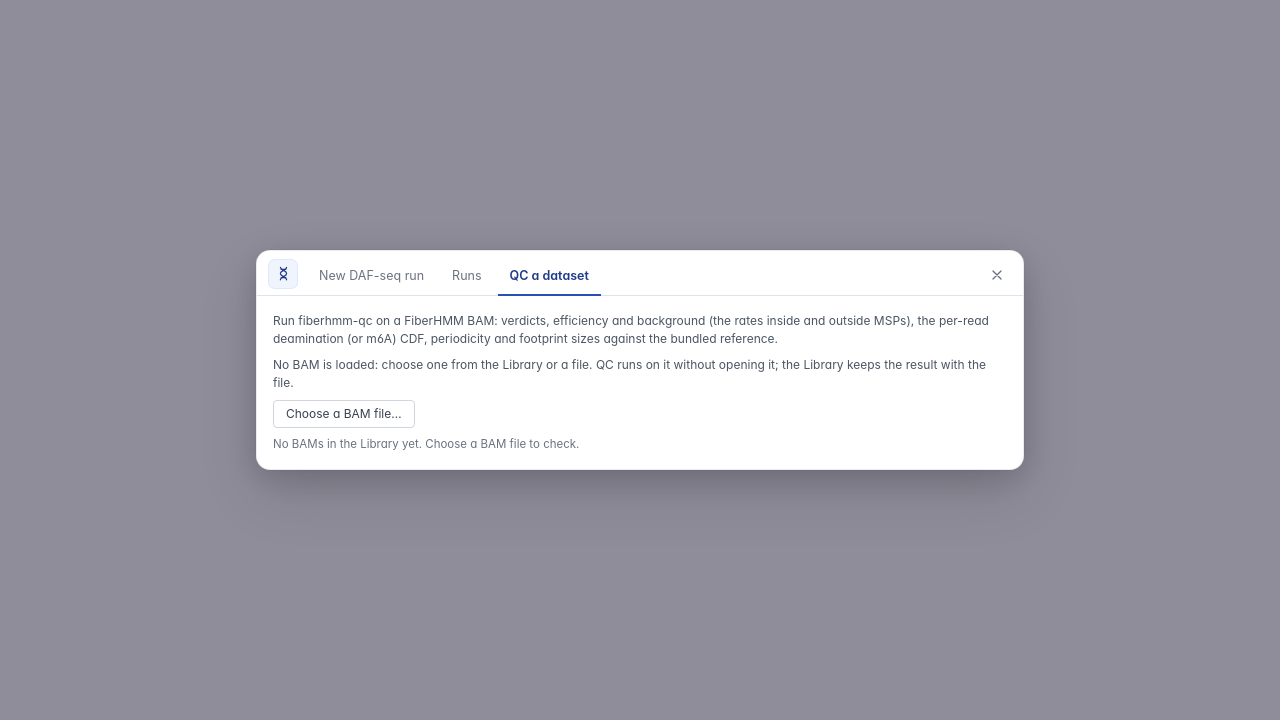
QC a dataset with no BAM loaded › QCs a chosen file through the Library, and shows errors inline
The image size is (1280, 720).
Click the button "Choose a BAM file…".
click(344, 414)  # box [273,400,415,428]
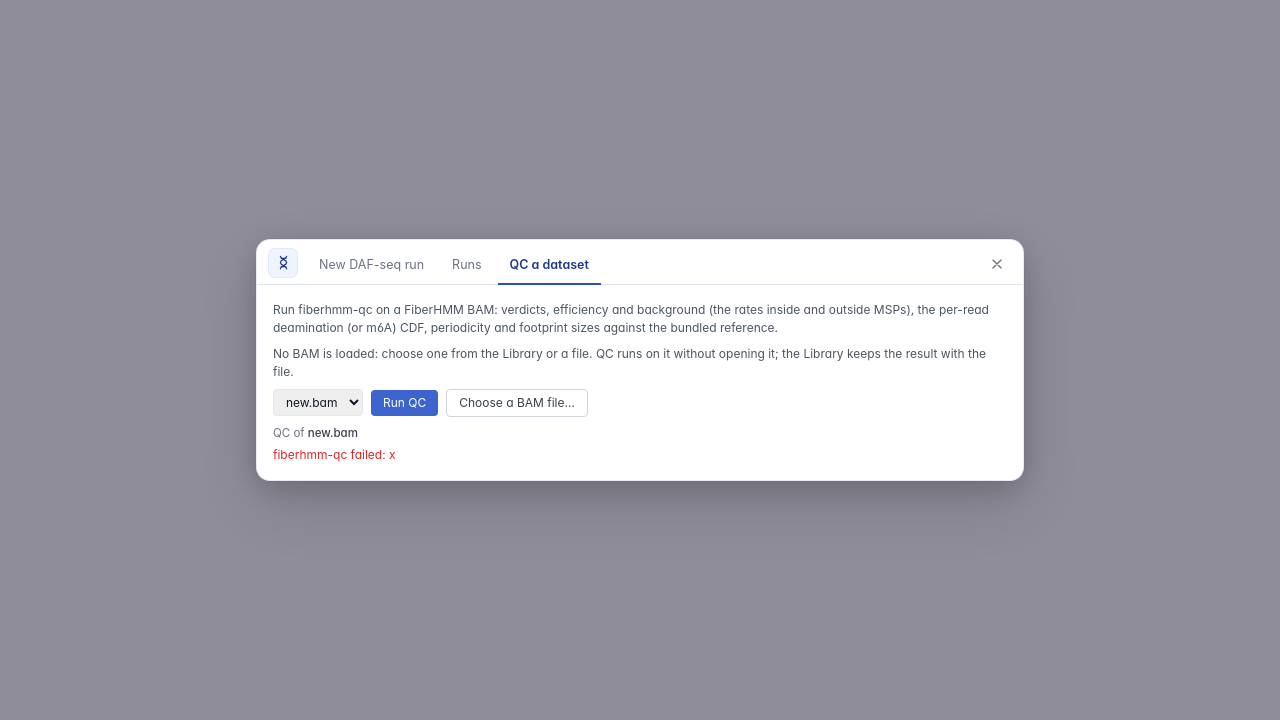
Now the text "fiberhmm-qc failed: x" is shown, box [273,447,396,462]
